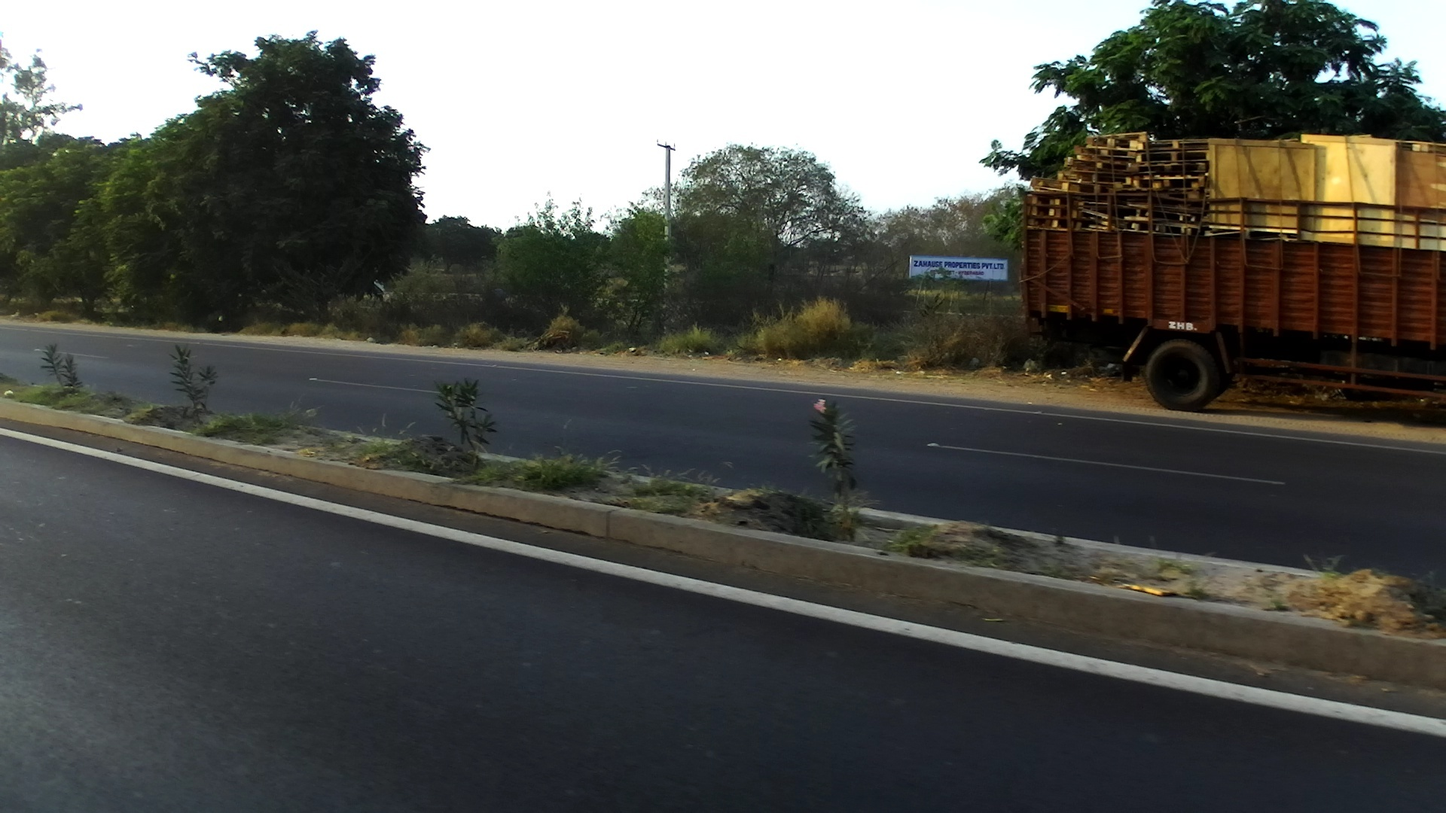truck: (1016, 132, 1446, 410)
